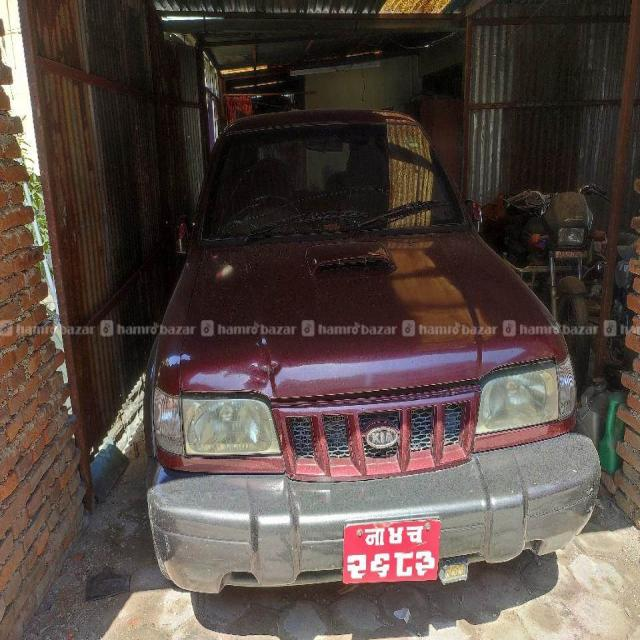License-plate: (344, 520, 444, 582)
